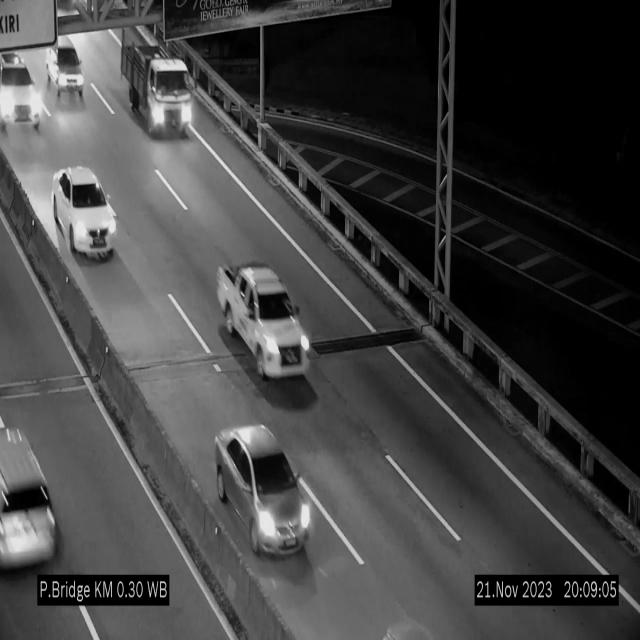Car: (214, 426, 312, 554), (215, 263, 310, 376), (54, 166, 116, 259), (0, 51, 43, 132), (43, 36, 87, 102)
Truck: (121, 24, 192, 136)
